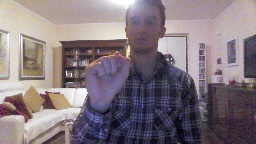Pugno: (83, 50, 132, 112)
